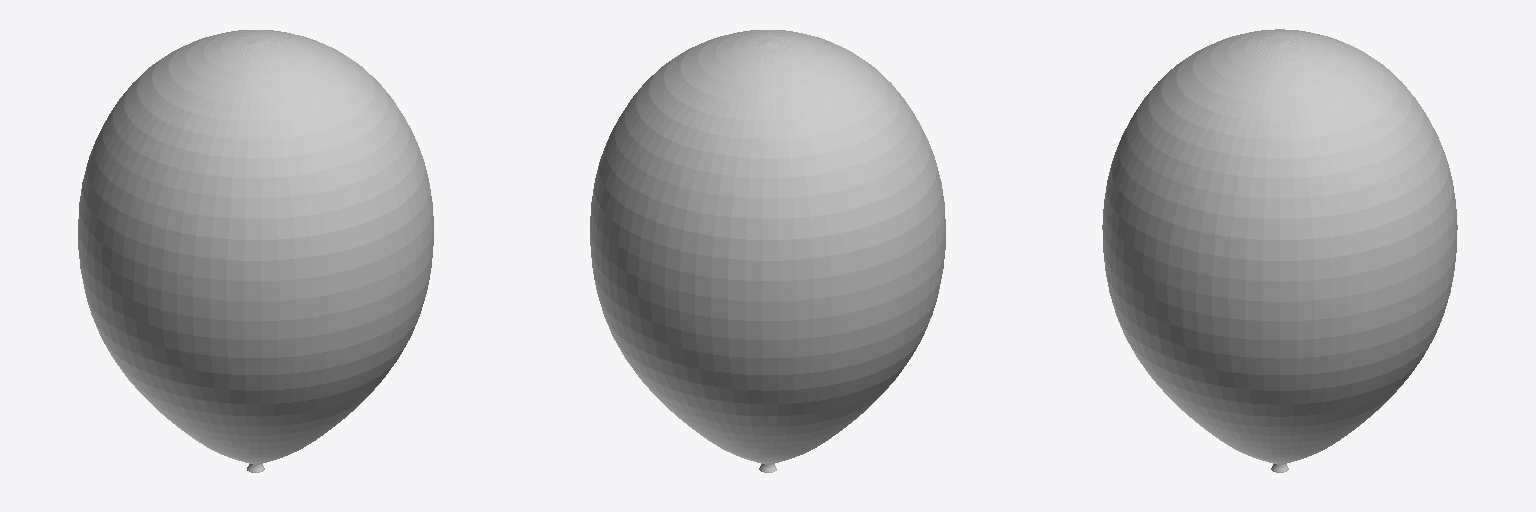
File: Globo13.obj
3 renders of one model, left to right at view 1: azimuth 30°, elevation 25°; view 2: azimuth 150°, elevation 25°; view 3: azimuth 270°, elevation 25°, orthographic.
Parts seen in each view (by area): view 1: Sphere.021; view 2: Sphere.021; view 3: Sphere.021.
Part boxes in pixels (x1,y1,x2,y2): Sphere.021: (78, 30, 433, 472); Sphere.021: (590, 30, 945, 472); Sphere.021: (1102, 29, 1457, 472).
Size of the model in its own units: 0.5211 by 0.688 by 0.519.